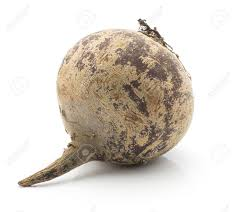beet: (19, 19, 194, 186)
